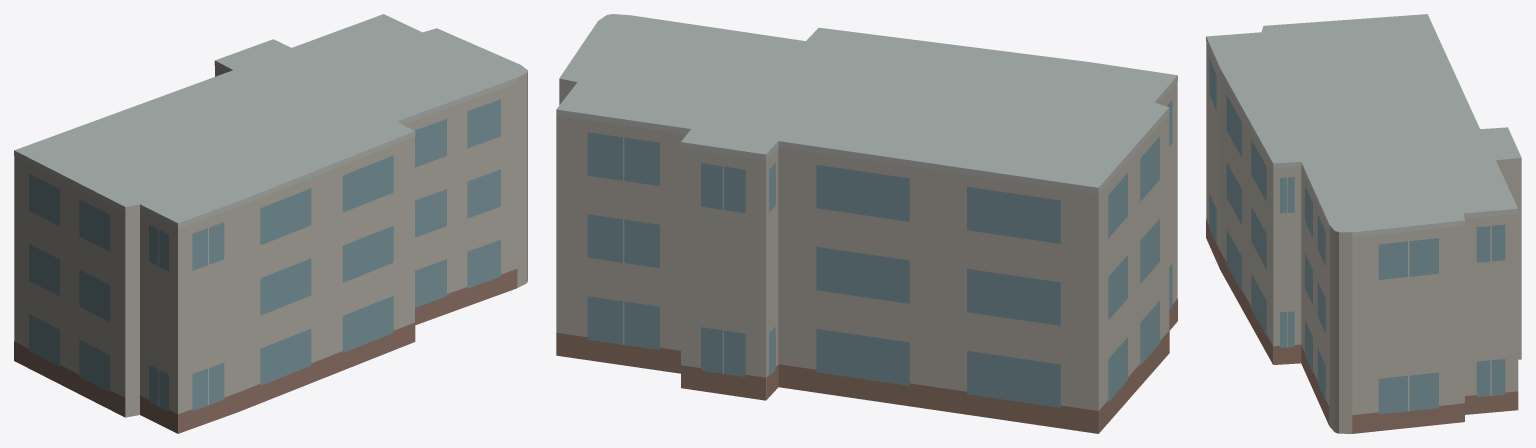
Rendered from survey-upis-33046323.glb.
3 renders of one model, left to right at view 1: azimuth 30°, elevation 25°; view 2: azimuth 150°, elevation 25°; view 3: azimuth 270°, elevation 25°, orthographic. The views are drawn at different scales.
Parts seen in each view (by area): view 1: survey-upis-33046323.tmp; view 2: survey-upis-33046323.tmp; view 3: survey-upis-33046323.tmp.
Part boxes in pixels (box(x1,y1,x2,y2)): survey-upis-33046323.tmp: box(14, 14, 527, 433); survey-upis-33046323.tmp: box(556, 14, 1177, 433); survey-upis-33046323.tmp: box(1206, 14, 1521, 433).
Bounding box in the file's own units: 22.79 × 9.8 × 13.92.
